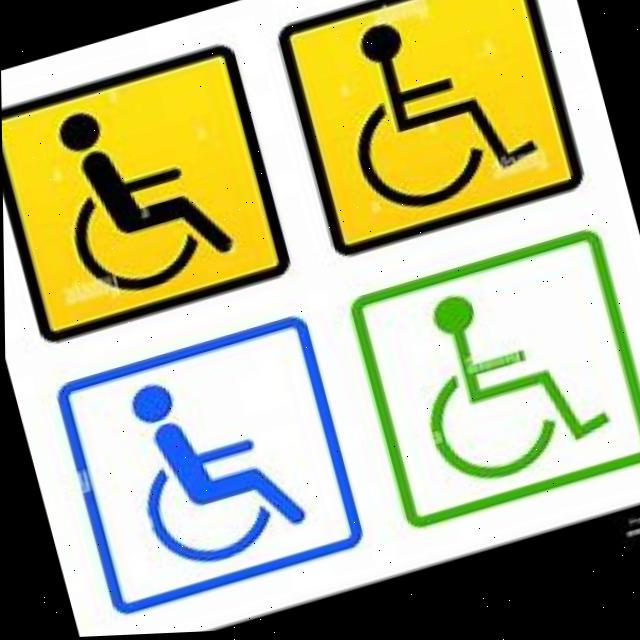symbol_of_access: (397, 264, 618, 501), (326, 0, 545, 230), (44, 78, 242, 306), (114, 354, 311, 582)
